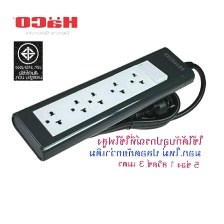three_eye_plug: (11, 45, 198, 162)
